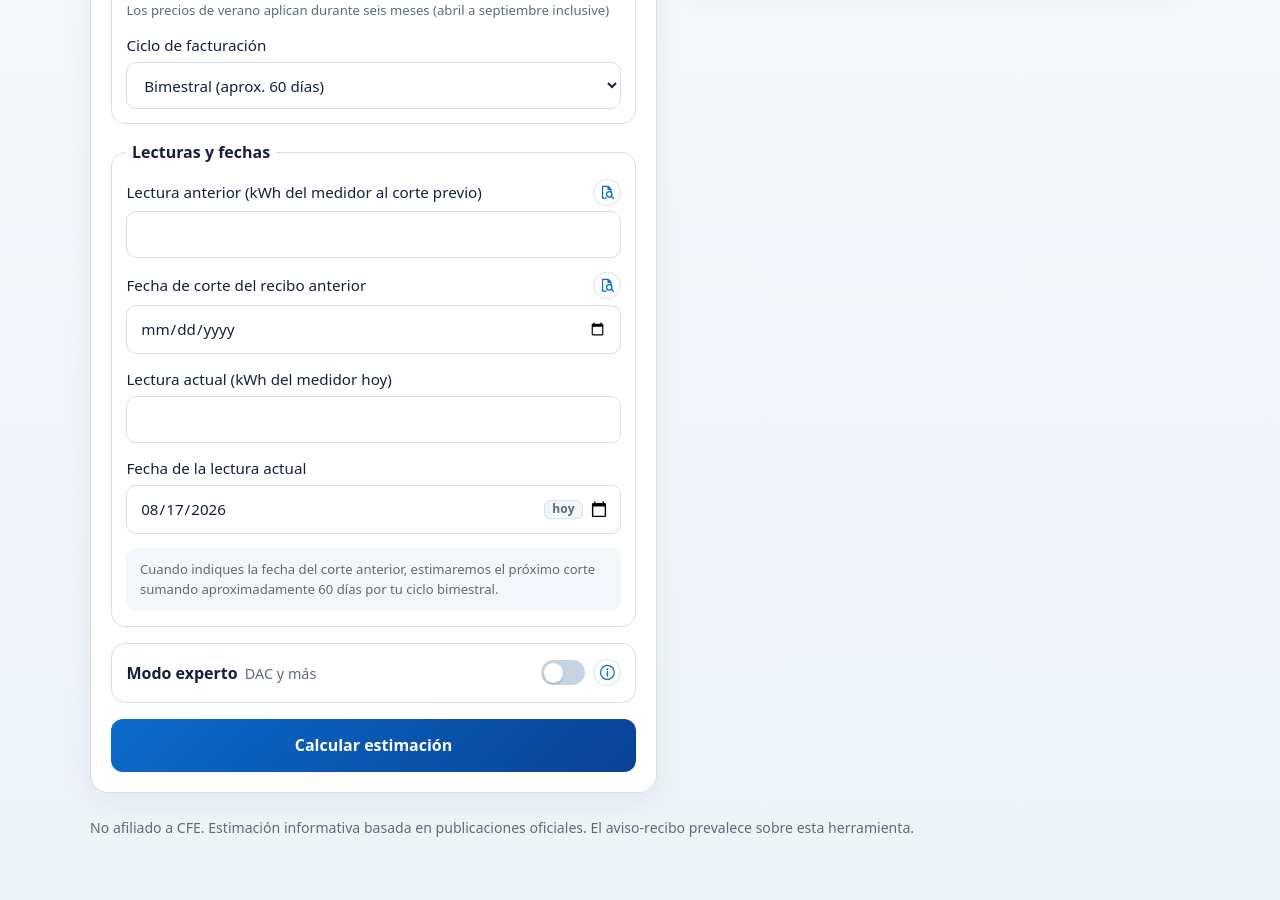
Test: App › keeps expert-mode inputs hidden until the toggle is enabled
(page scrolled)
Expected: the heading "Modo experto" is shown, [126,661,238,685]
Expected: the text "cargos extra como DAP (alumbrado público)" is not shown
Click the button named "Qué es el modo experto".
click(607, 672)  # box [593,659,621,686]
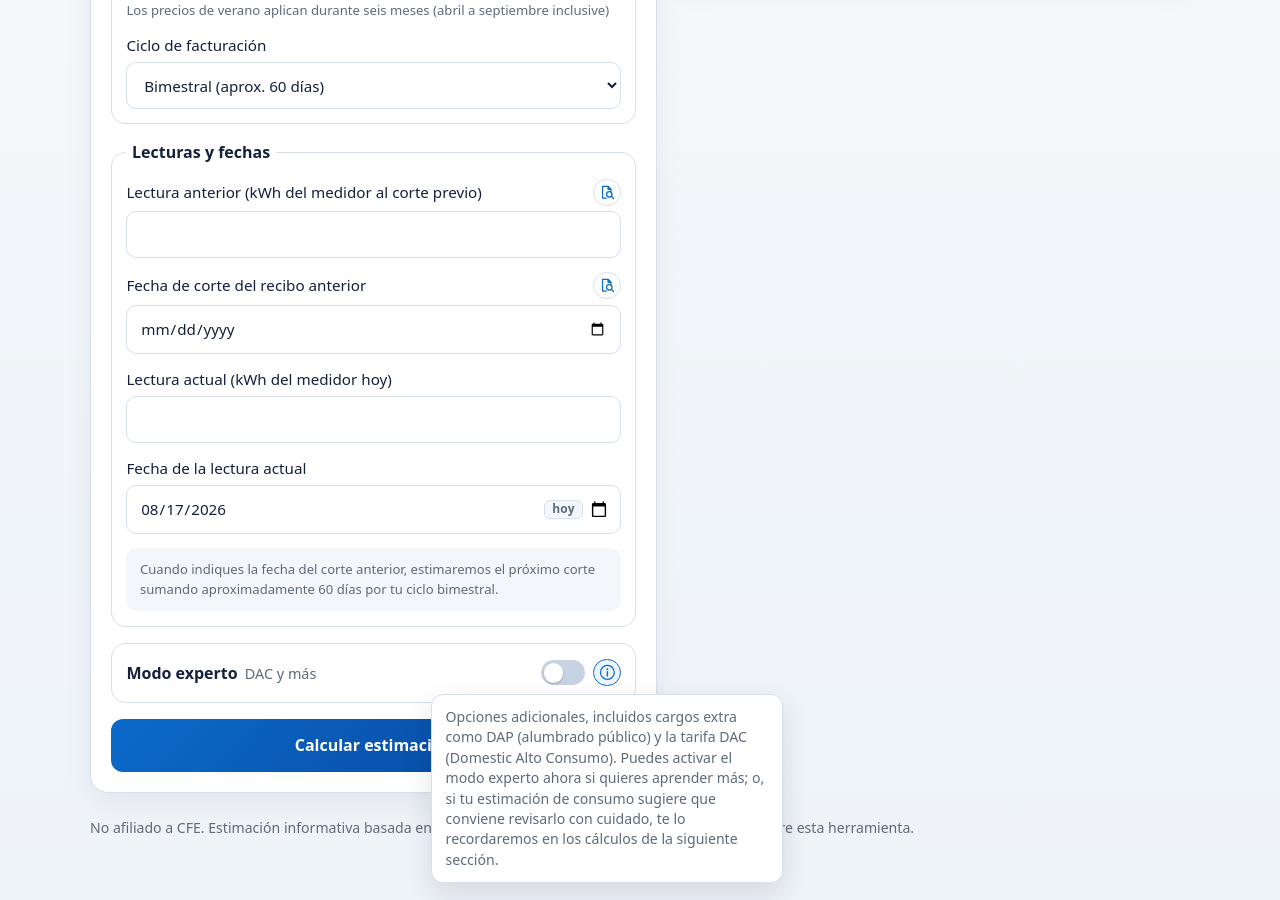
Now the text "cargos extra como DAP (alumbrado público)" is shown, box [446,707,764,869]
Click the switch named "Modo experto".
click(563, 673)  # box [541,658,585,688]
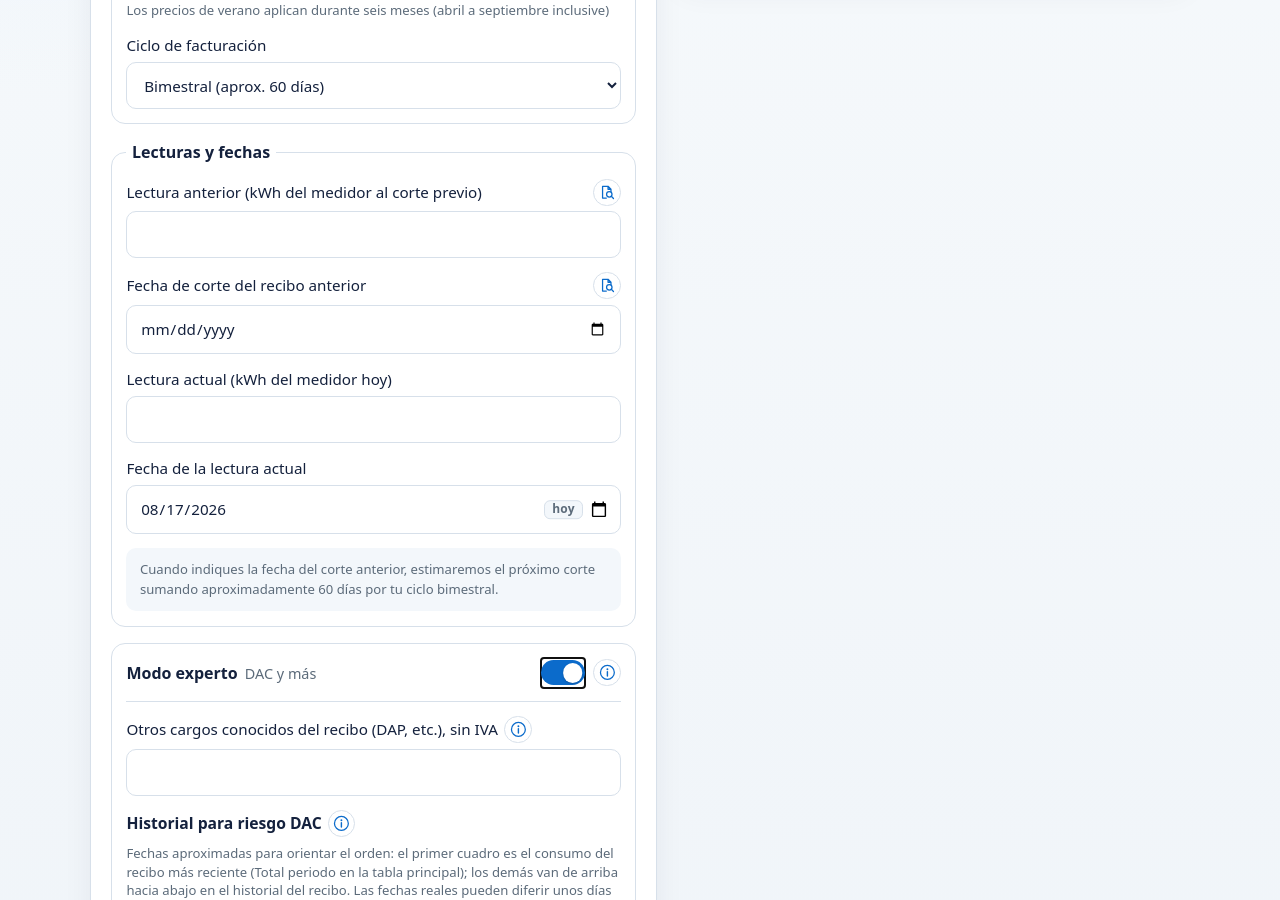
Now the heading "Historial para riesgo DAC" is shown, box [126,812,322,836]
Now the button named "Otros cargos conocidos del recibo" is shown, box [504,716,532,743]
Click the button named "Qué es la tarifa DAC".
click(342, 824)  # box [328,810,355,837]
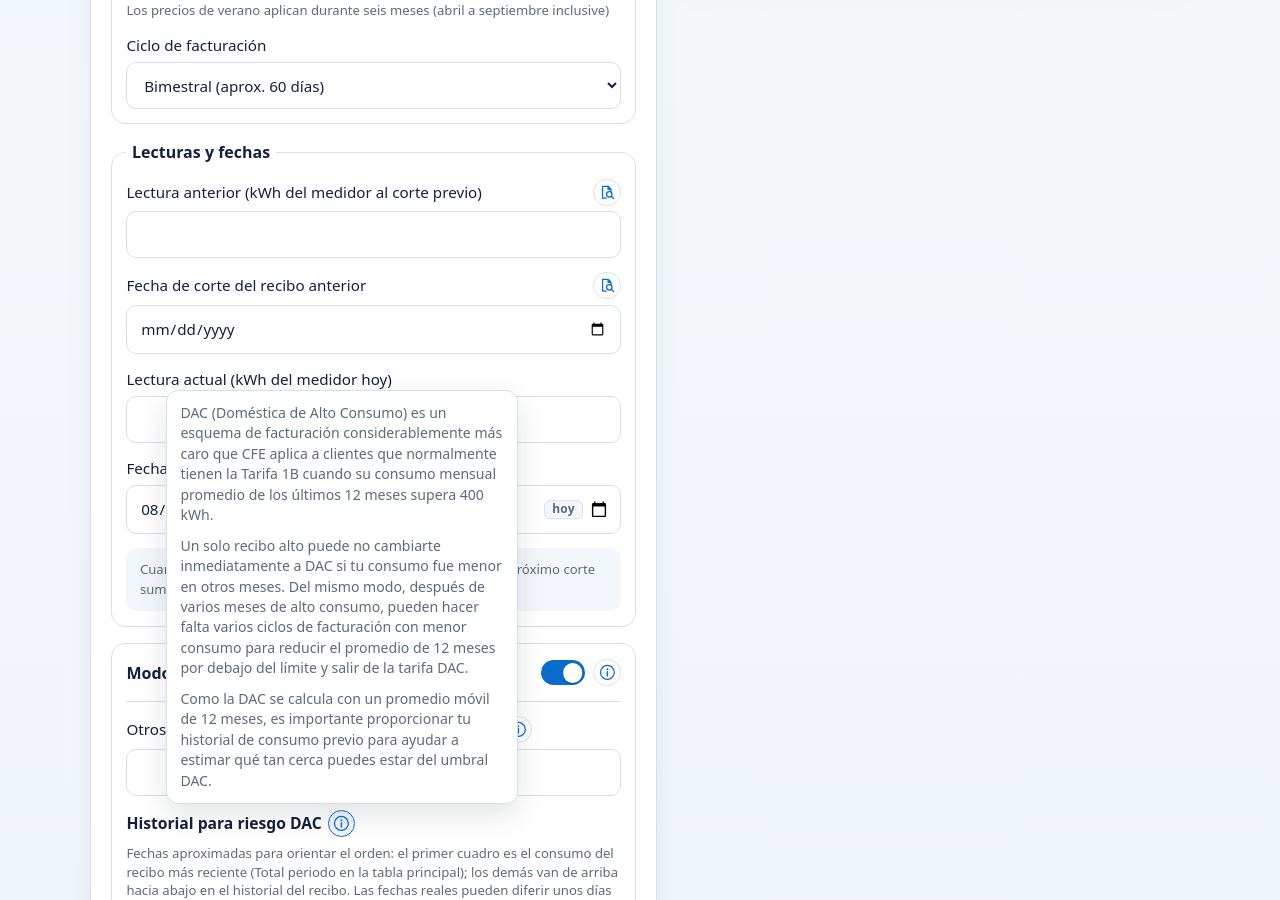
Now the dialog named "Qué es la tarifa DAC" shows "normalmente tienen la Tarifa 1B", box [180,403,502,524]
Now the dialog named "Qué es la tarifa DAC" shows "supera 400 kWh", box [180,403,502,524]
